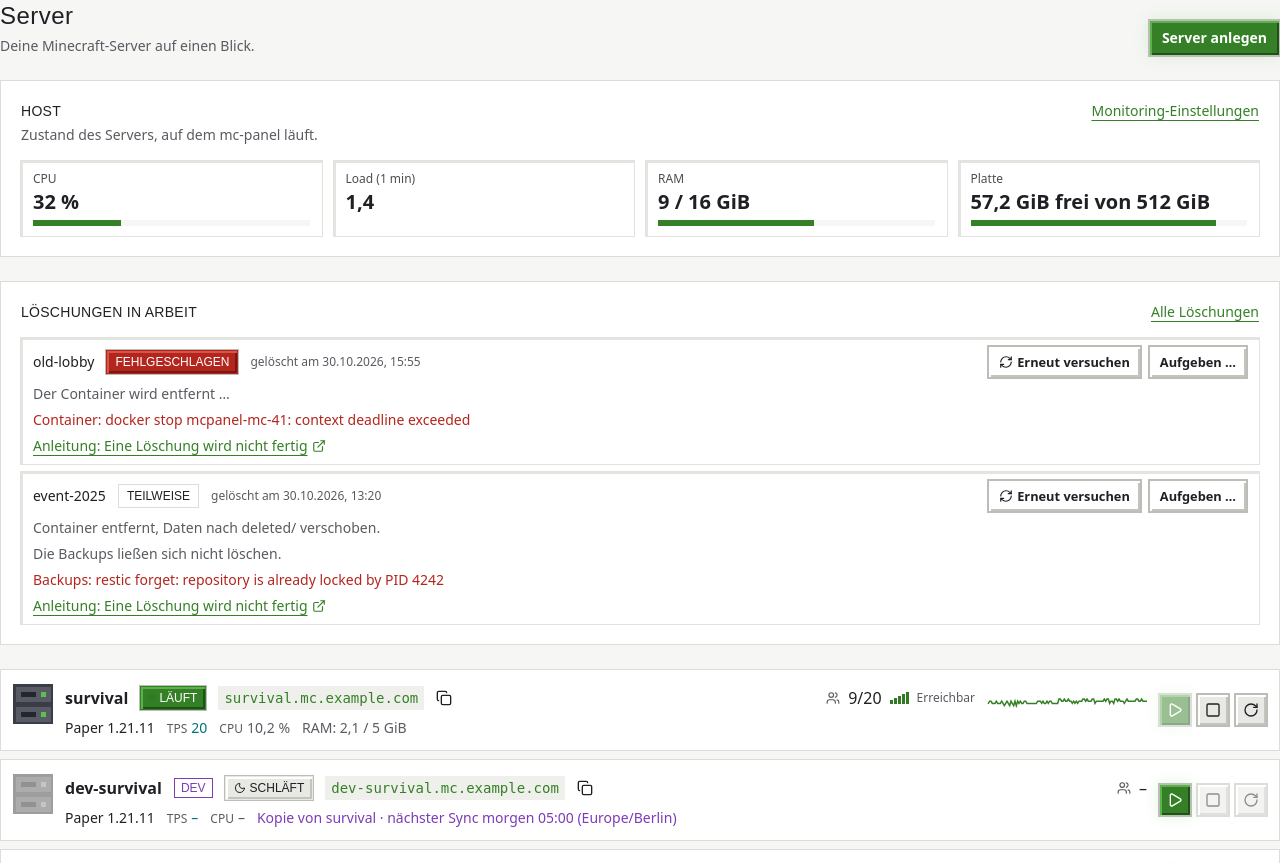
it: open deletions on the dashboard (#148) › asks for the second factor before a retry
Click the button with aria-label "Löschung von event-2025 erneut versuchen".
click(1064, 496)  # box [988, 480, 1141, 512]
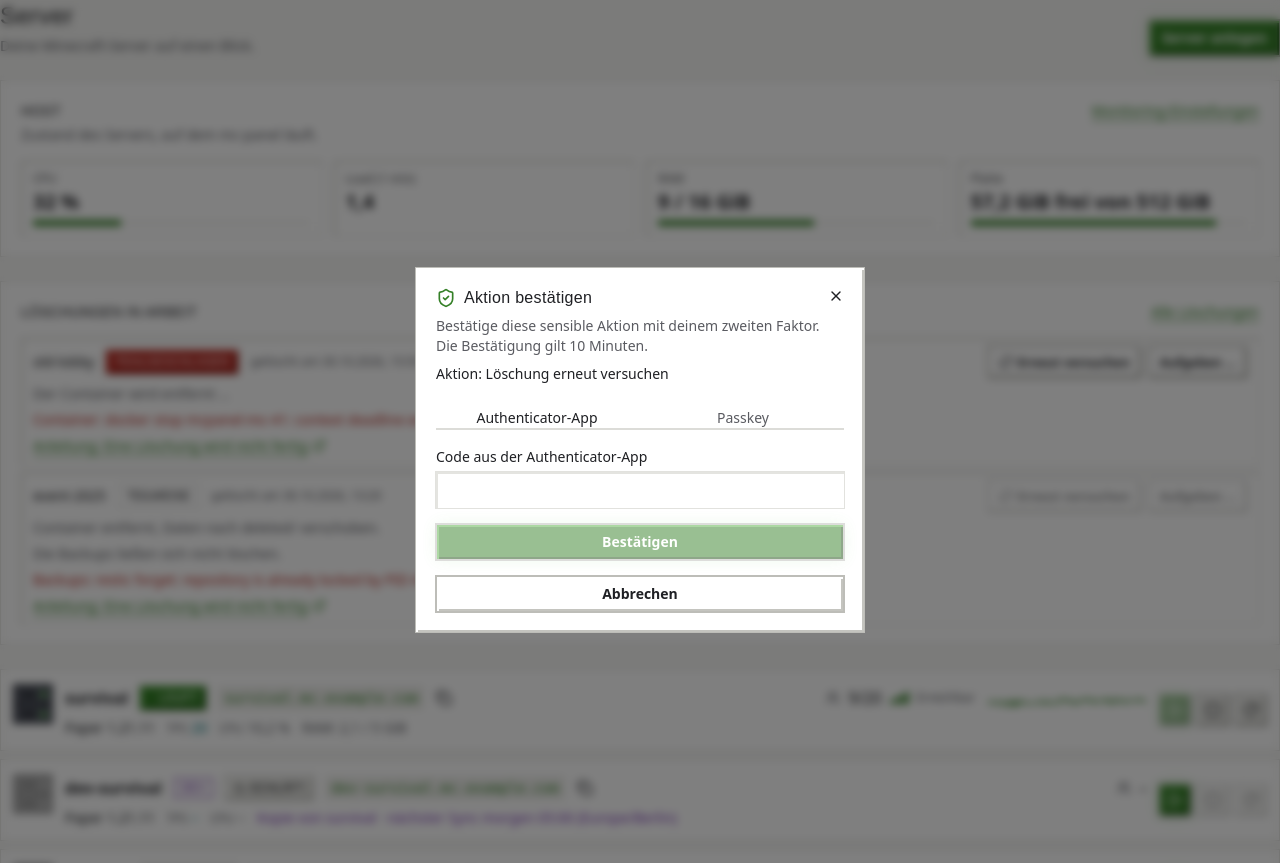
Type "123456" into the field labelled "Code aus der Authenticator-App".
click(640, 490); type("123456")  # box [436, 472, 844, 508]
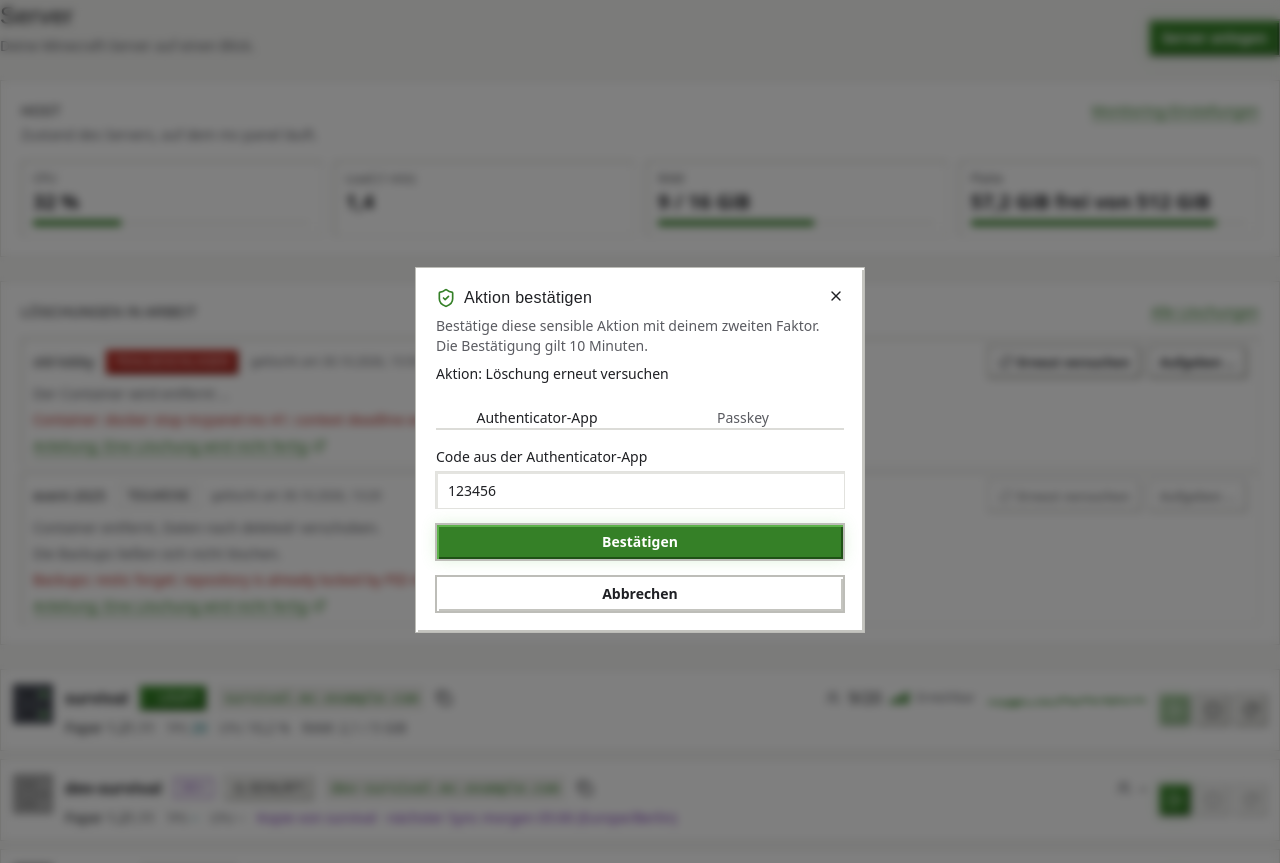
Click the button "Bestätigen".
click(640, 542)  # box [436, 524, 844, 560]
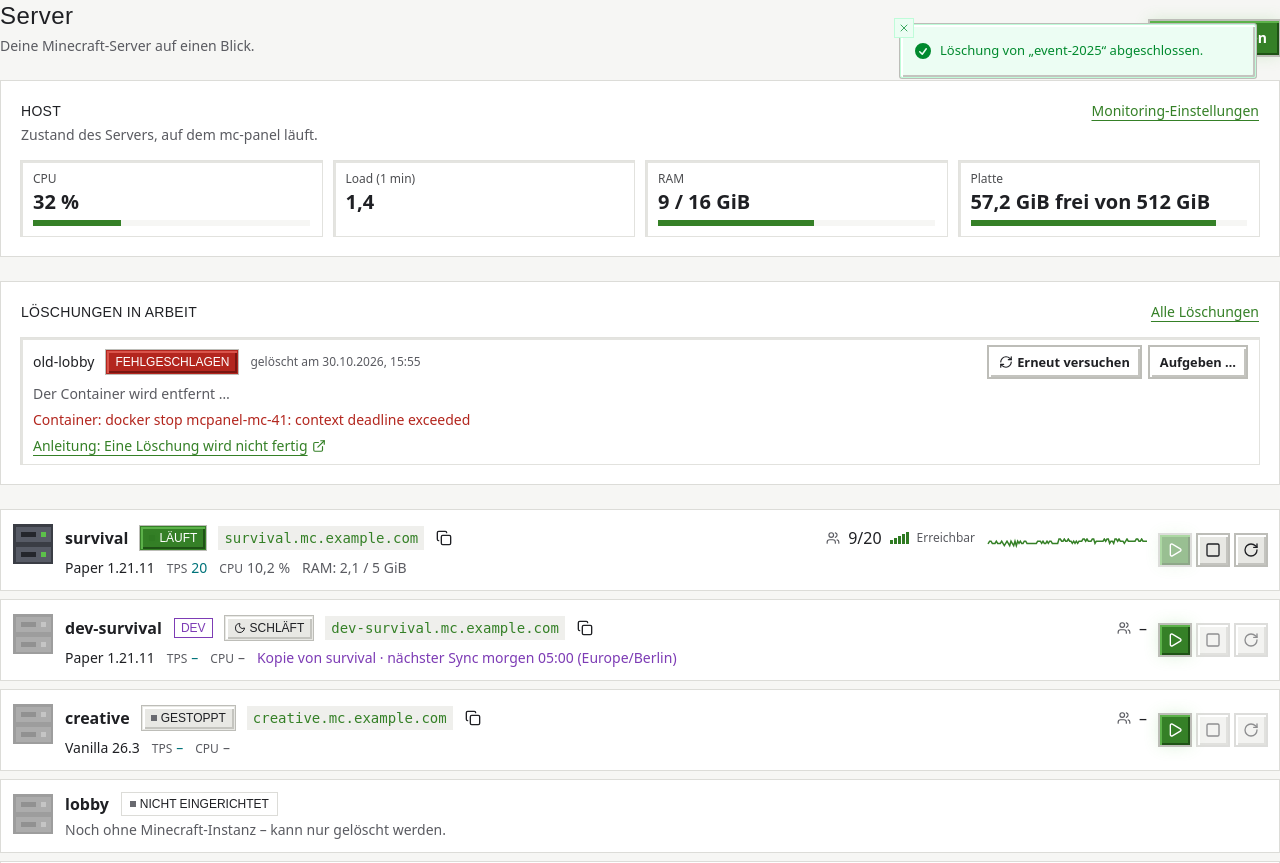
Now the text "Löschung von „event-2025“ abgeschlossen." is shown, box [940, 41, 1203, 60]
